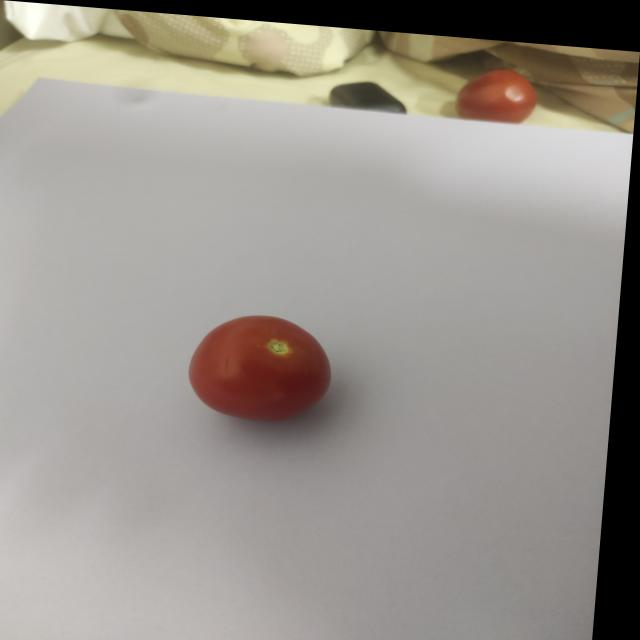kirmizi: (178, 302, 378, 446), (448, 57, 579, 127)
